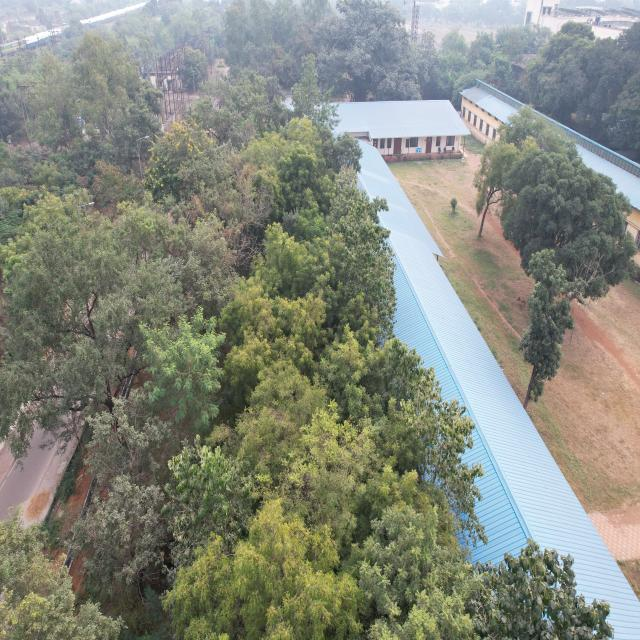Devakanchan tree: (13, 238, 151, 410), (91, 434, 156, 566)
Mango Tree: (512, 154, 629, 375)
Neem Tree: (241, 291, 361, 512), (189, 546, 341, 640), (373, 516, 460, 640), (283, 141, 330, 269)
